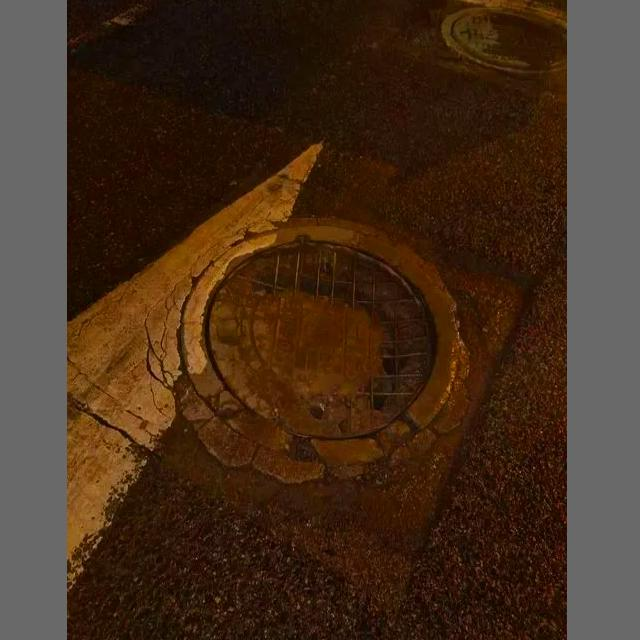circle: (103, 190, 520, 552)
